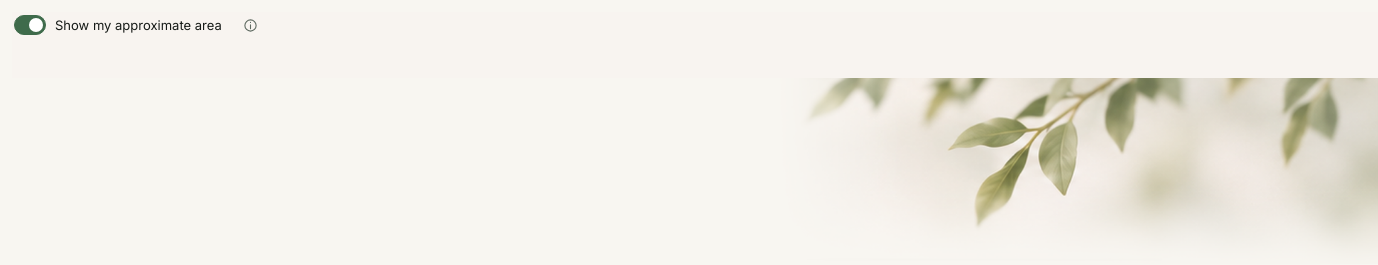
Test: map sharing can be revoked and failed requests preserve the saved state
Click the checkbox: (30, 25) [14,15,46,35]
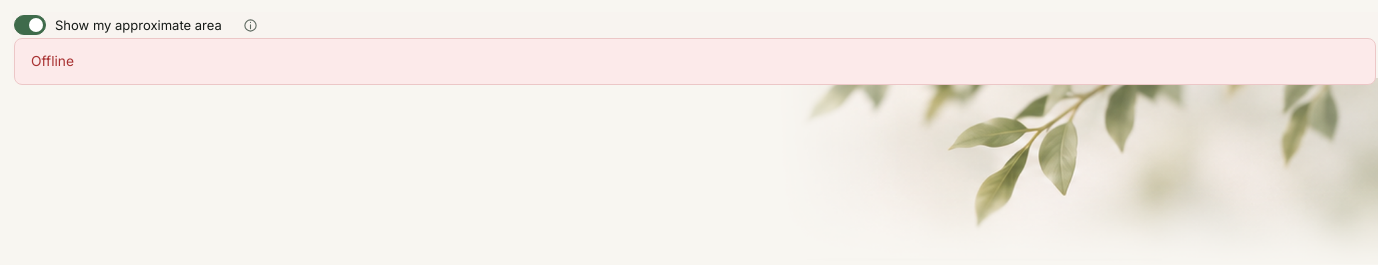
Expected: the message reads "Offline", [31,53,74,69]
